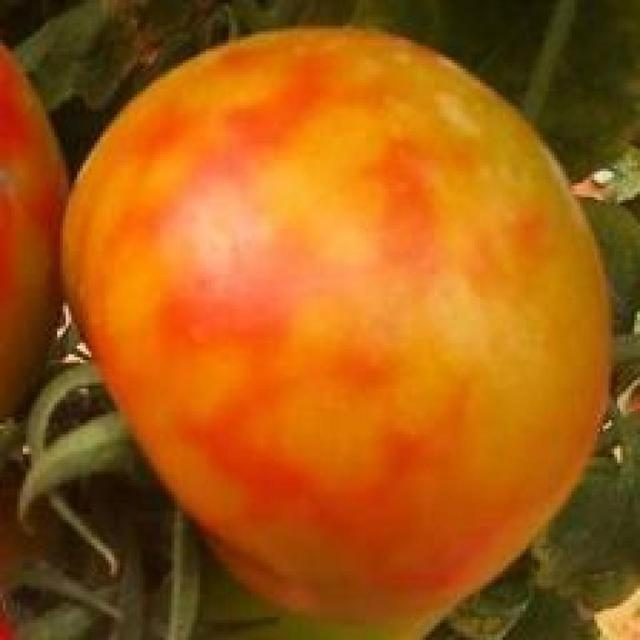Spotted wilt Virus Fruit: (37, 11, 408, 419)
